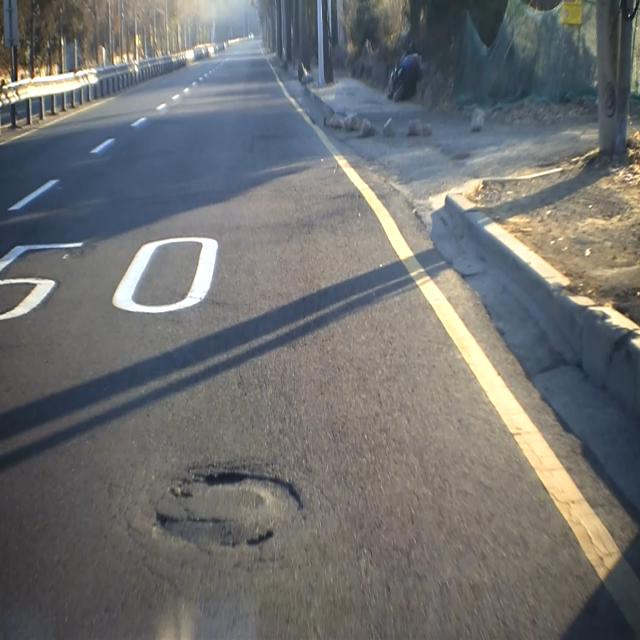Pothole: (148, 461, 314, 567)
